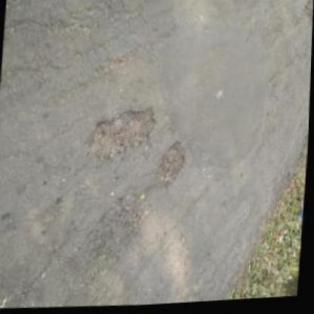Hueco: (86, 190, 153, 281), (85, 108, 159, 166), (152, 141, 187, 192)
